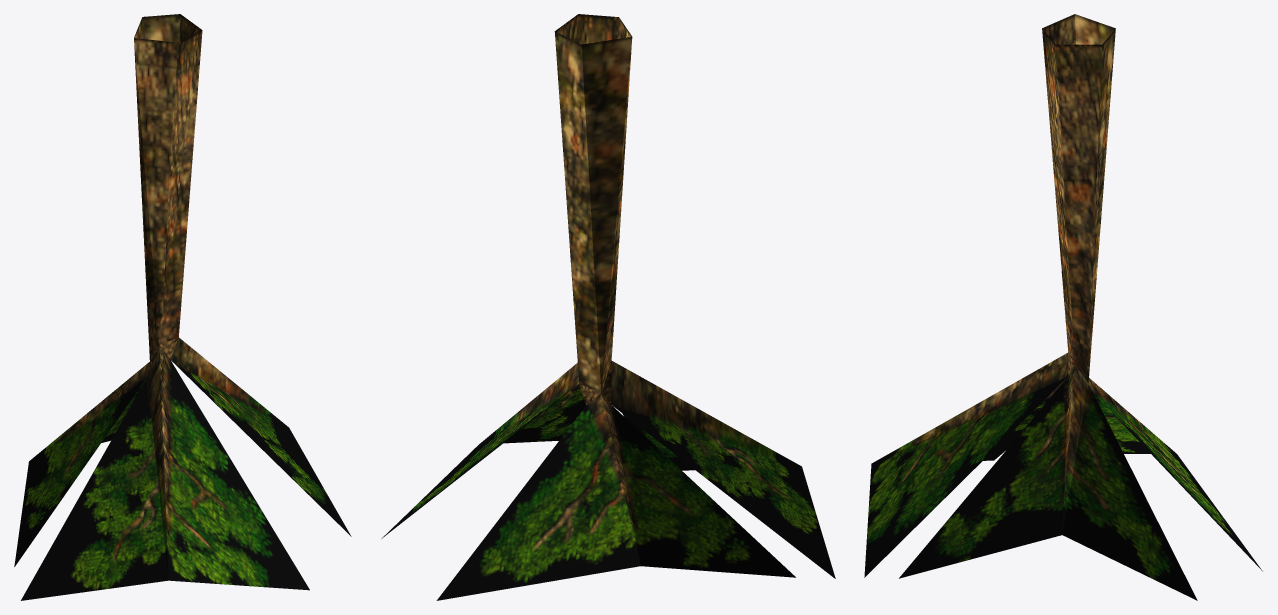
The model's file is Tree1M.obj.
3 views of the same model, side by side, from view 1: azimuth 30°, elevation 25°; view 2: azimuth 150°, elevation 25°; view 3: azimuth 270°, elevation 25° (orthographic). The views are drawn at different scales.
Parts seen in each view (by area): view 1: Group1; view 2: Group1; view 3: Group1.
Part boxes in pixels (x1=…): Group1: x1=14, y1=14, x2=351, y2=600; Group1: x1=381, y1=14, x2=835, y2=600; Group1: x1=864, y1=14, x2=1262, y2=600.
Size of the model in its own units: 217 by 314 by 216.
1 material, 1 textured.
